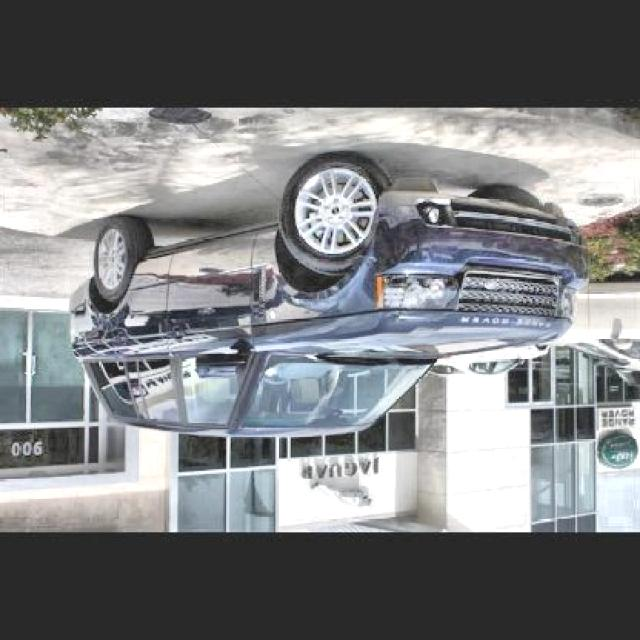black: (66, 158, 588, 434)
